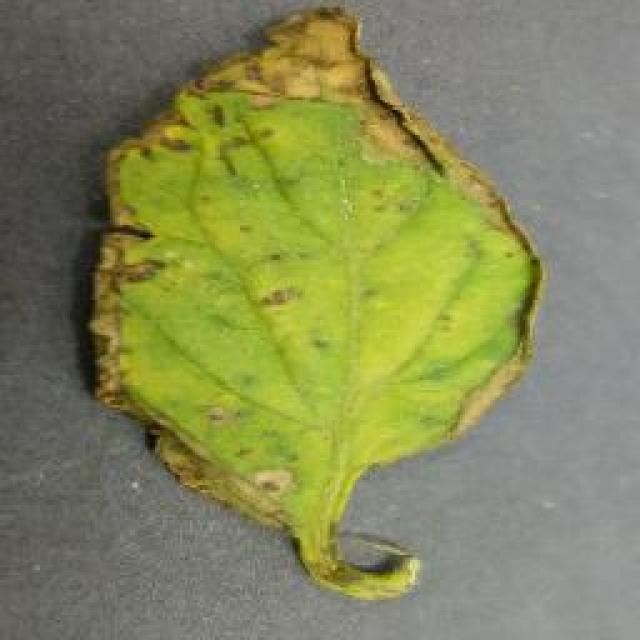bacterial spot: (90, 0, 544, 599)
